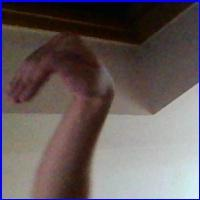del: (7, 24, 114, 136)
